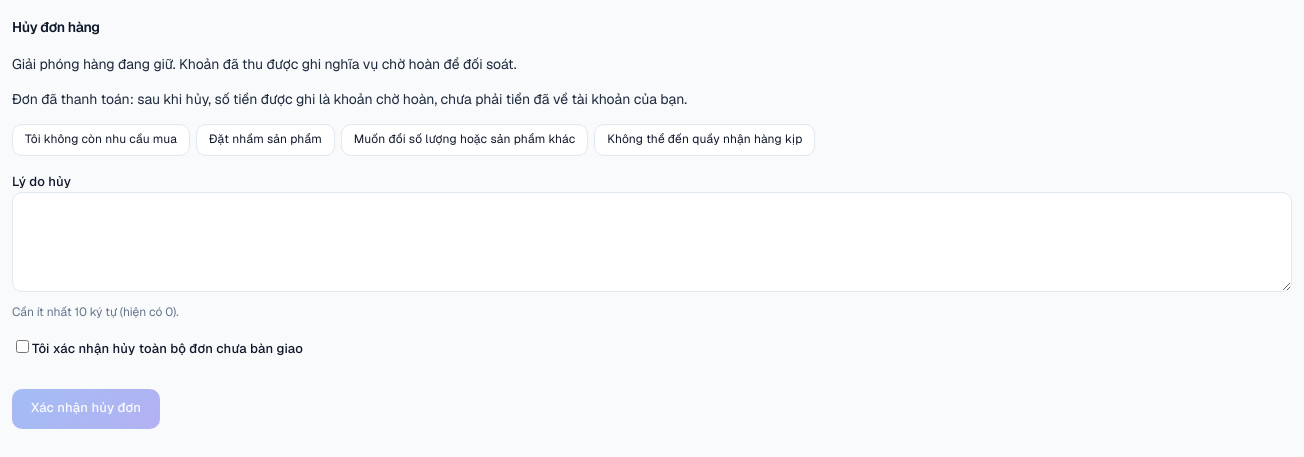
Test case: US-45 TC16: deliberate cancel, immutable recovery keys and financial wording › requires reason and acknowledgement, prevents double submit and labels pending refund correctly
Expected: the button "Xác nhận hủy đơn" is disabled, [12, 388, 160, 428]
Type "  Khách yêu cầu hủy toàn bộ đơn  " into the text box labelled "Lý do hủy" at (652, 242), box [12, 192, 1292, 292]
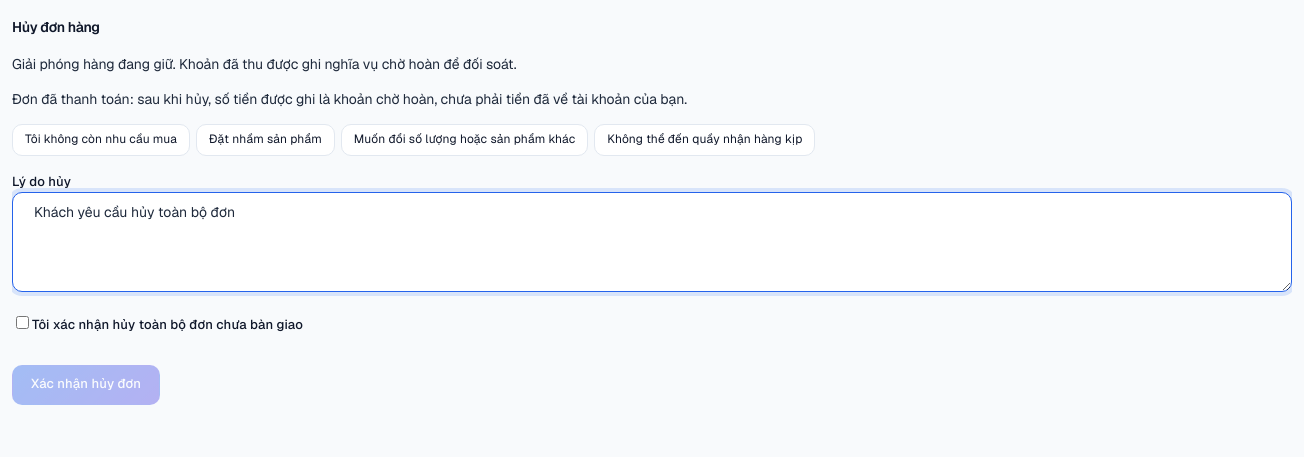
Click the checkbox labelled "Tôi xác nhận hủy toàn bộ đơn chưa bàn giao" at (22, 322), box [16, 316, 29, 329]
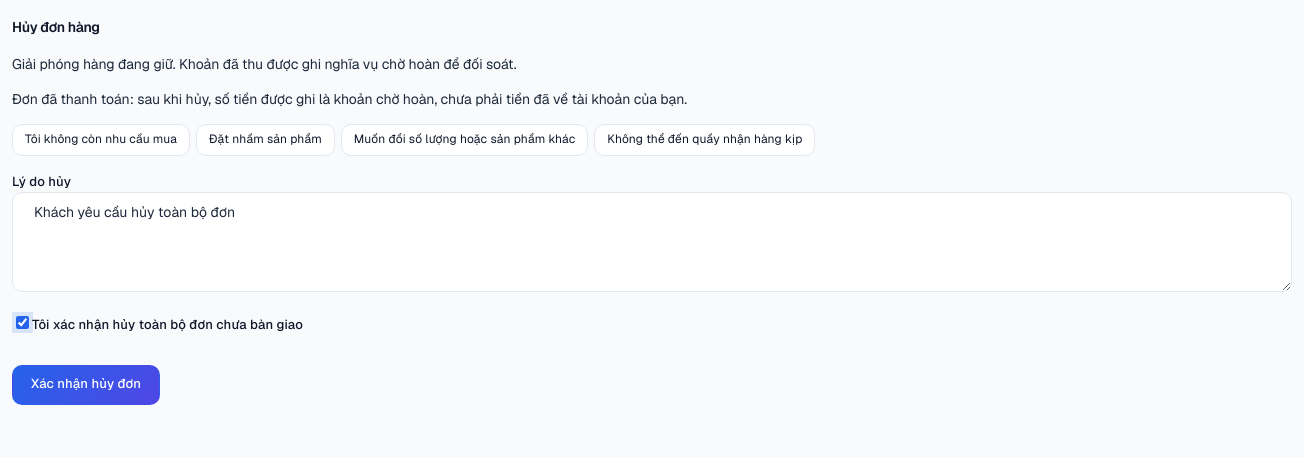
Click the button "Xác nhận hủy đơn" at (86, 384), box [12, 364, 160, 404]
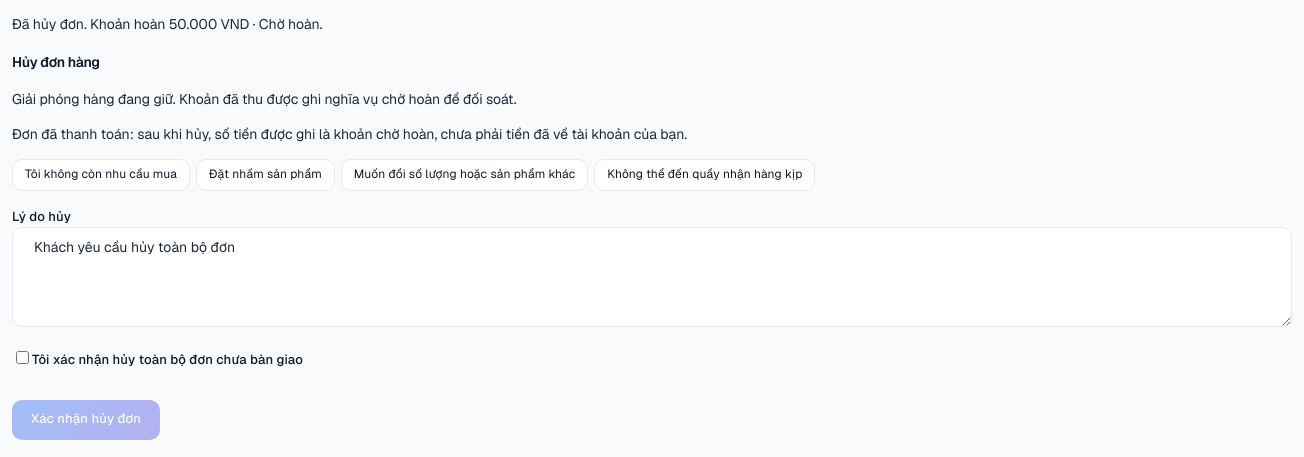
Now the text "Đã hủy đơn. Khoản hoàn 50.000 VND · Chờ hoàn." is shown, box [12, 15, 322, 33]
